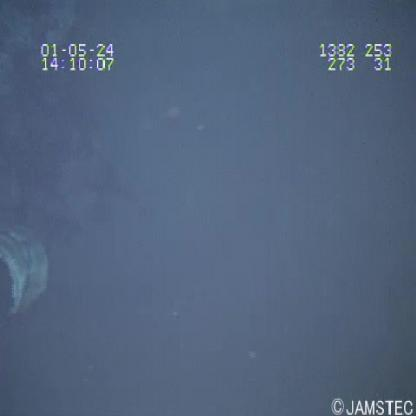Rác: (1, 218, 53, 330)
